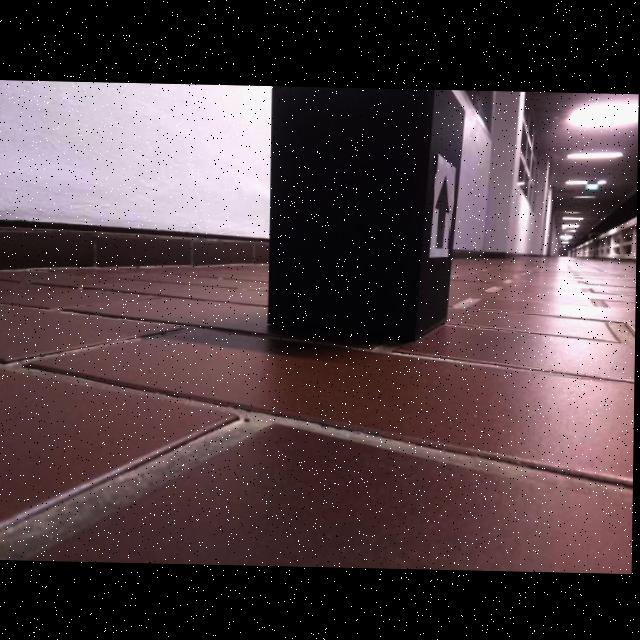UP: (436, 173, 451, 247)
